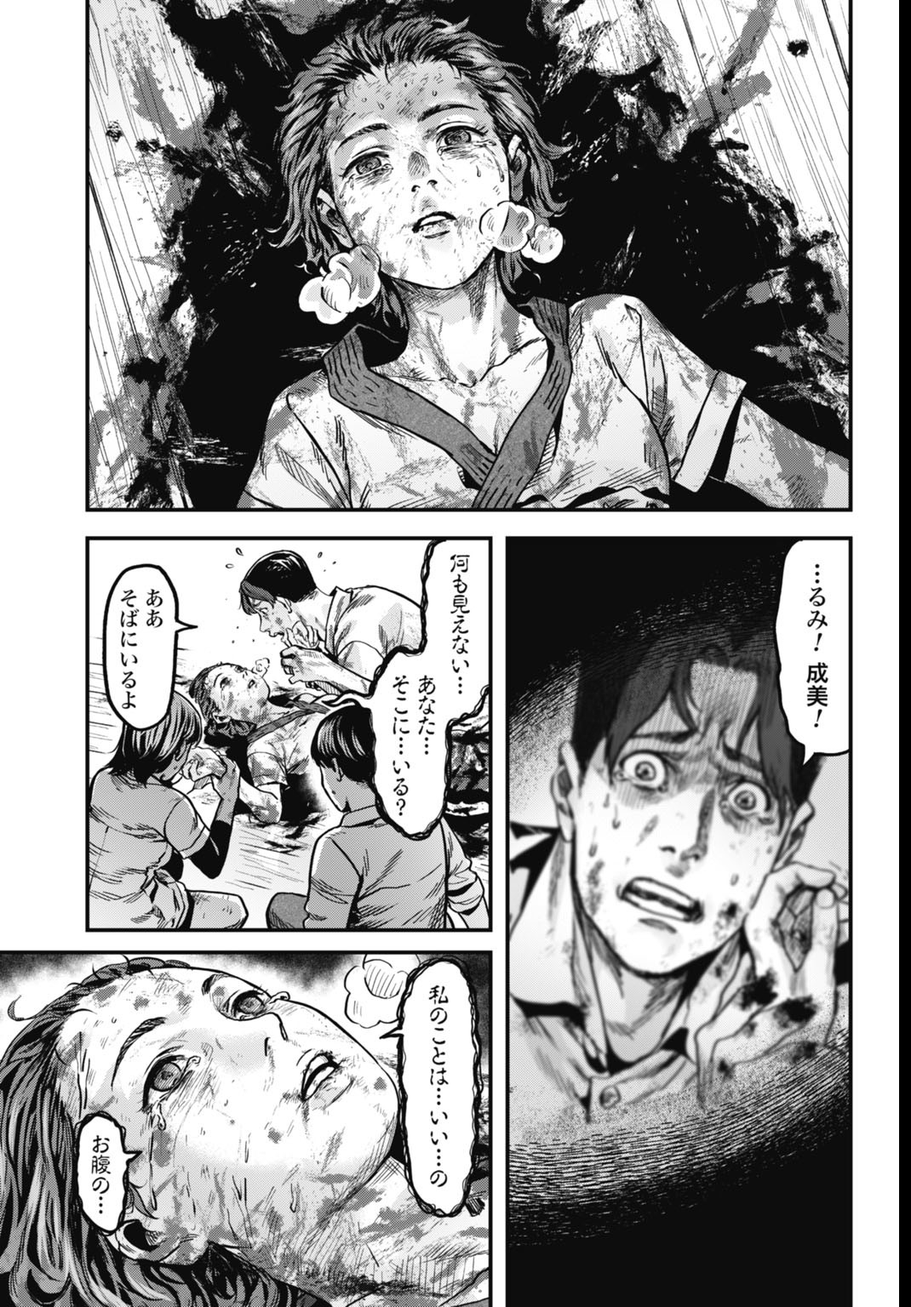bubbles: (319, 539, 490, 840), (384, 956, 484, 1225), (771, 537, 853, 778), (100, 564, 198, 733), (72, 1108, 137, 1241)
